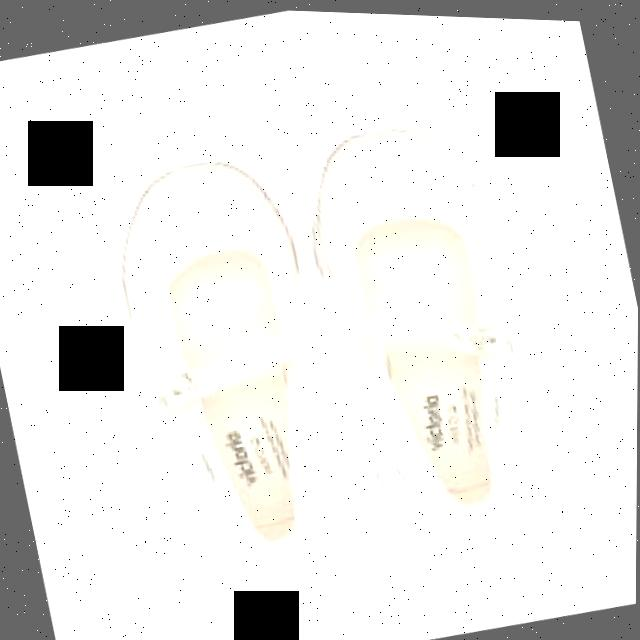shoe: (123, 161, 325, 543), (317, 127, 514, 508)
